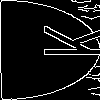K: (25, 25, 100, 58)
